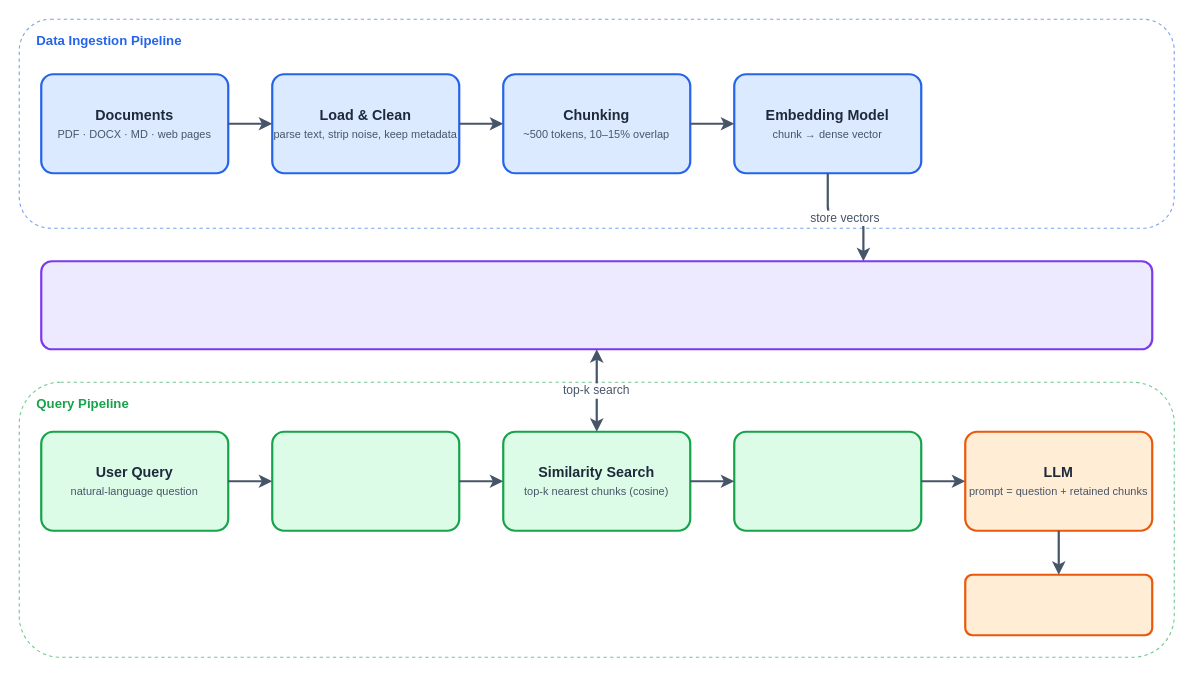
This 1194x677 diagram has some shape labels left out. The centre of each missing label's shape, as x and y in pixels:
"Embed Query same model as indexing → query vector" goes at pixel 365 480.
"Filter & Re-rank keep only the most relevant chunks" goes at pixel 827 480.
"Grounded Answer with source citations" goes at pixel 1058 604.
"Vector Database chunk vectors" goes at pixel 596 305.
